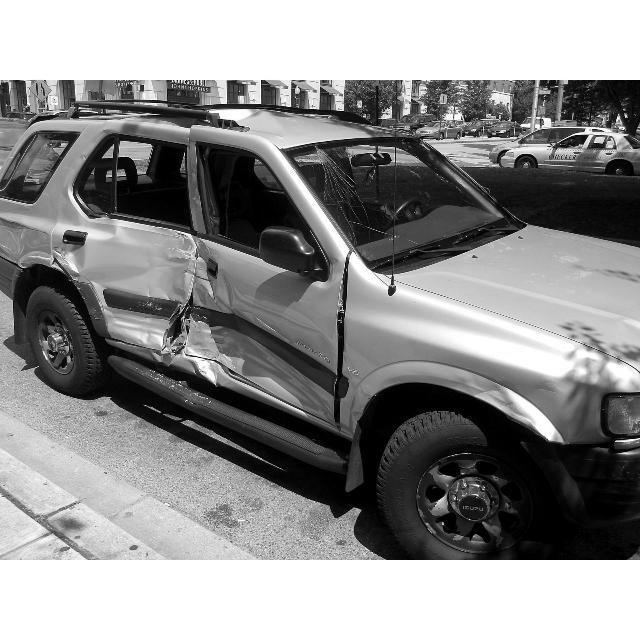Front-windscreen-damage: (309, 137, 448, 251)
doorouter-dent: (188, 235, 332, 419), (64, 218, 196, 375)
